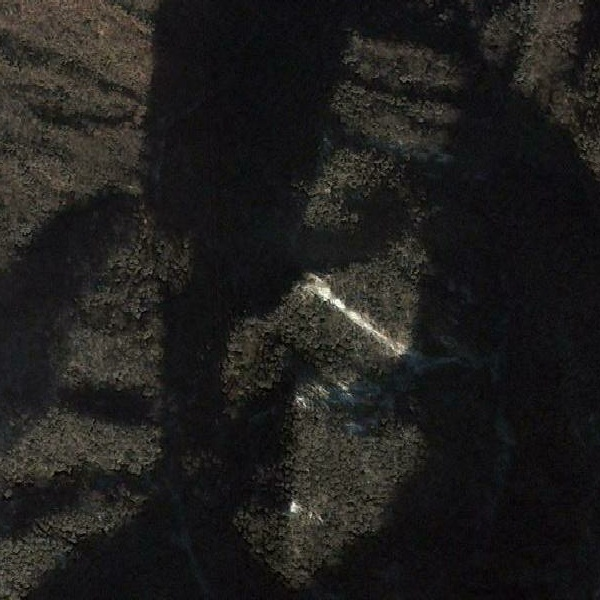slope: (293, 267, 488, 377)
